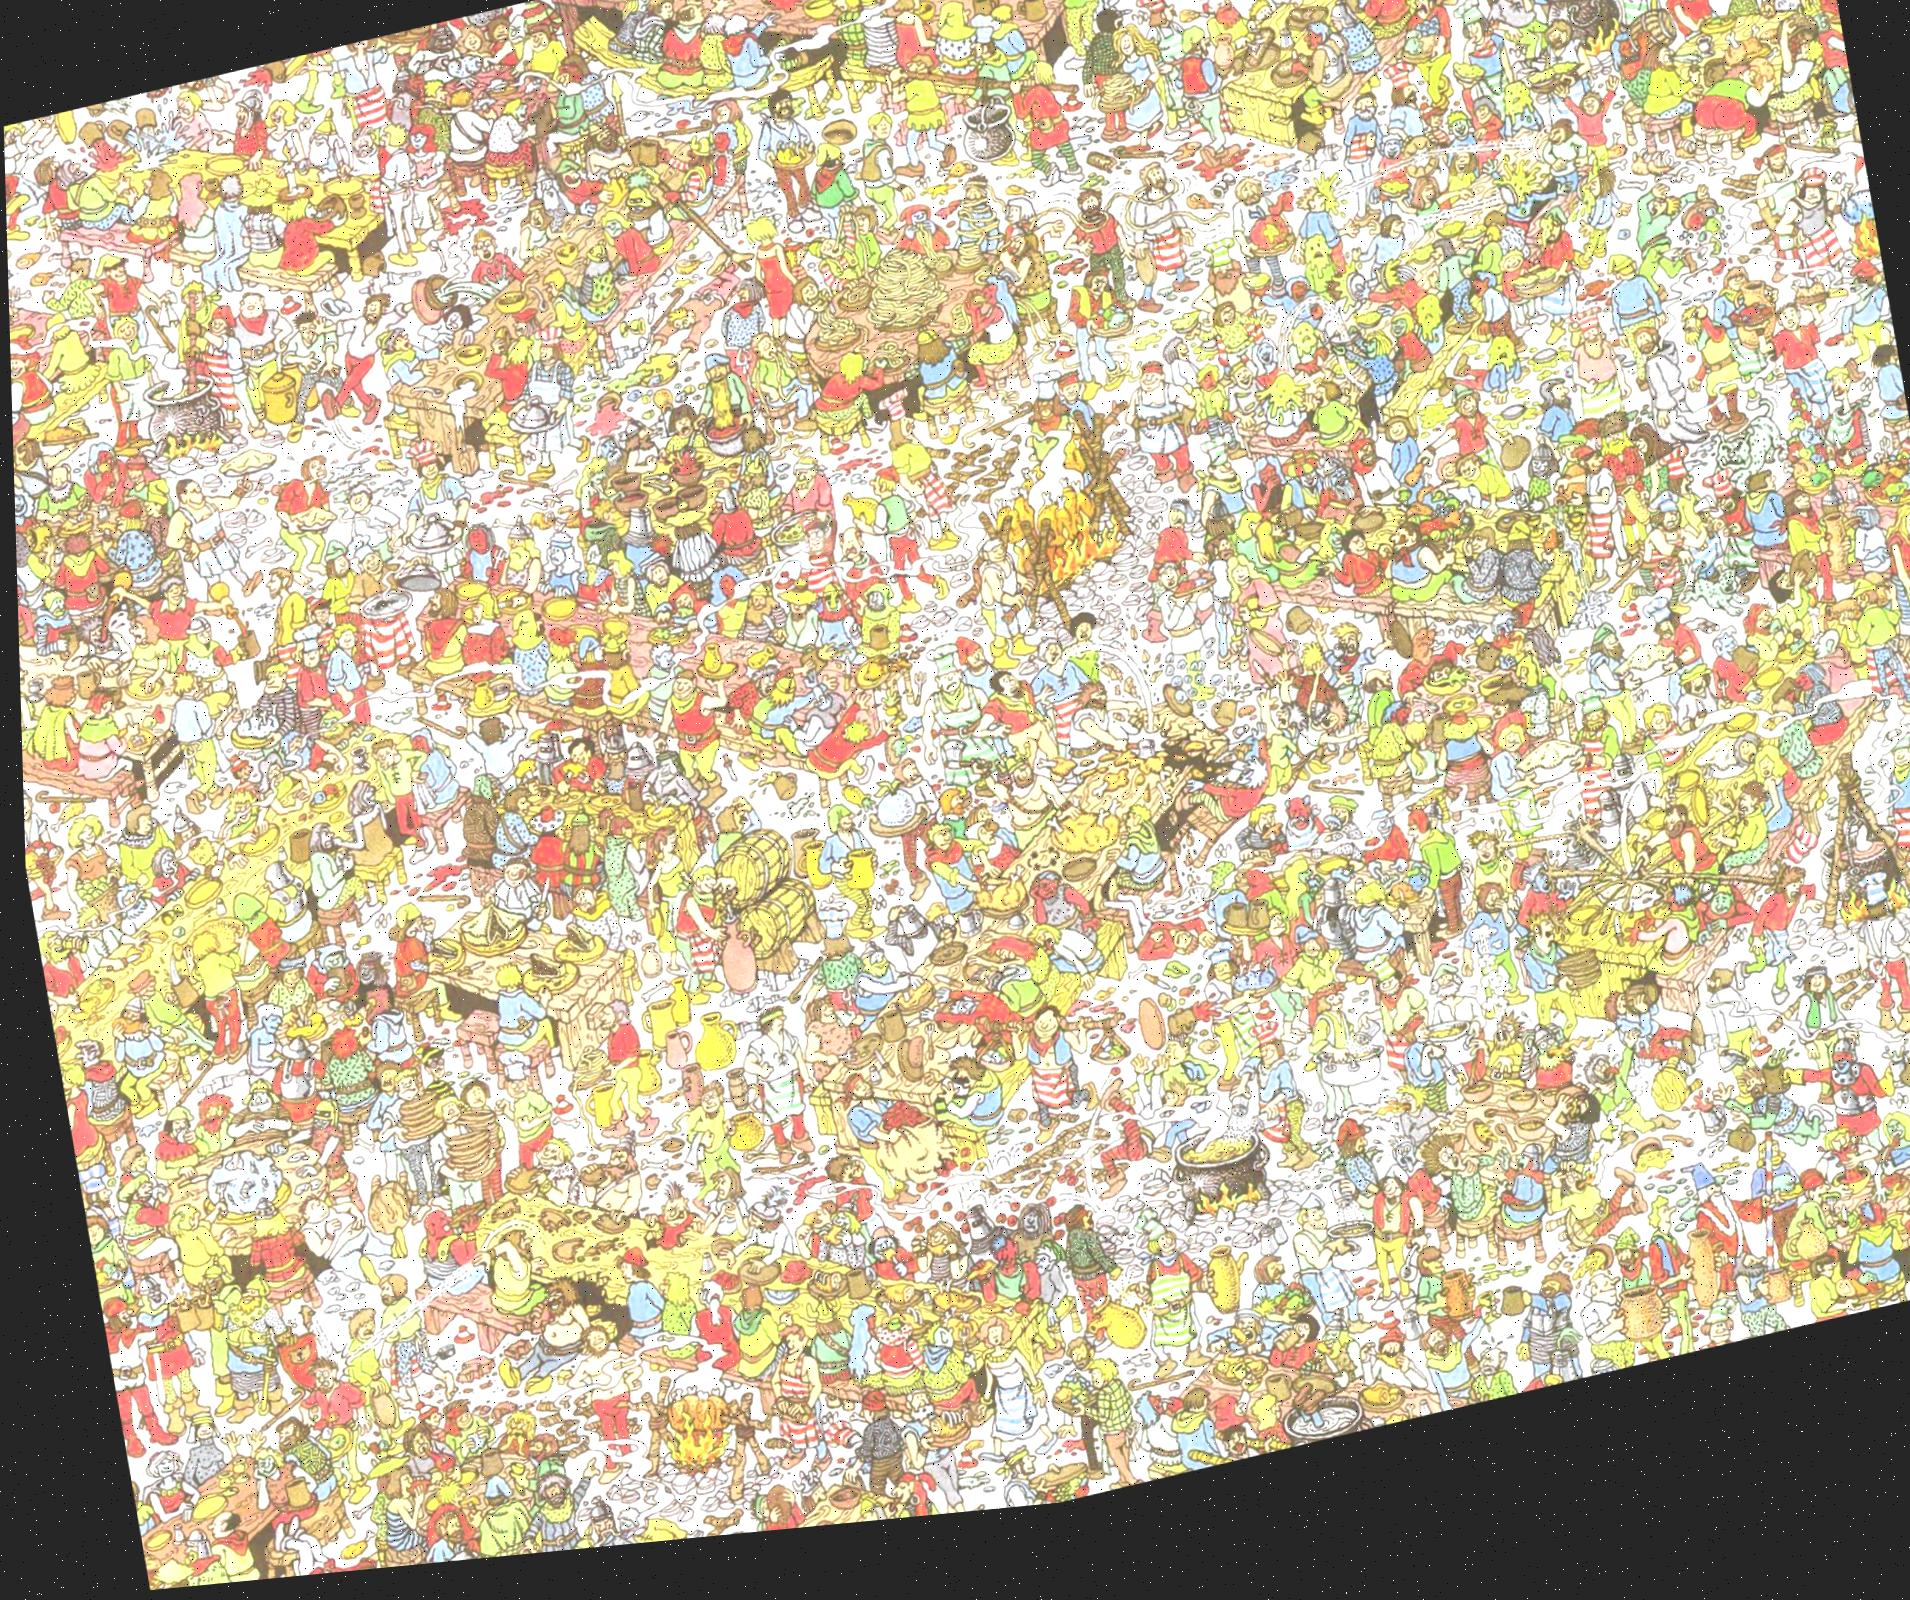waldo: (791, 529, 829, 575)
